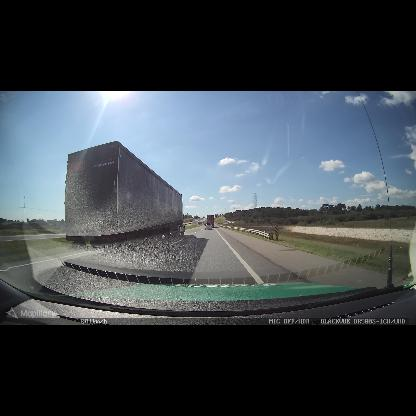O-MP: (275, 225, 279, 236), (269, 233, 273, 240)
